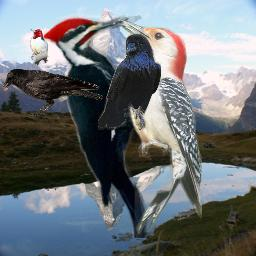Crow: (98, 33, 161, 130), (1, 68, 103, 117)
Woodpecker: (43, 12, 176, 238), (115, 18, 202, 235), (29, 29, 49, 69)
